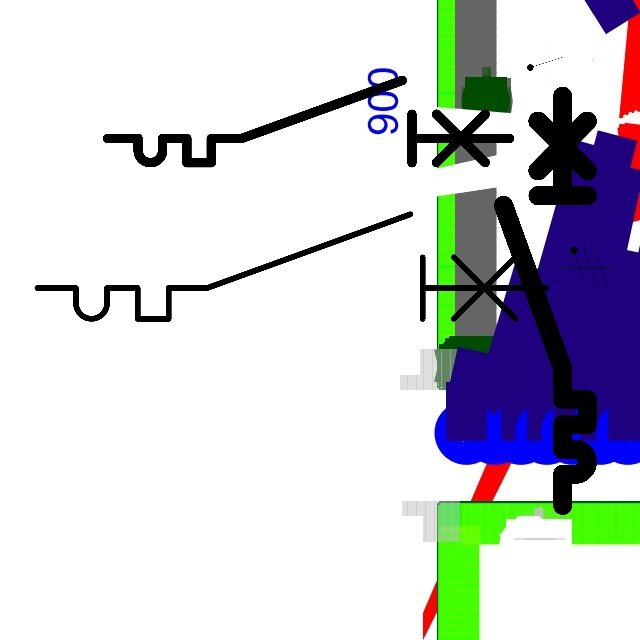interruptor_termomagnetico: (24, 201, 559, 332), (493, 85, 598, 515), (97, 70, 520, 173)
